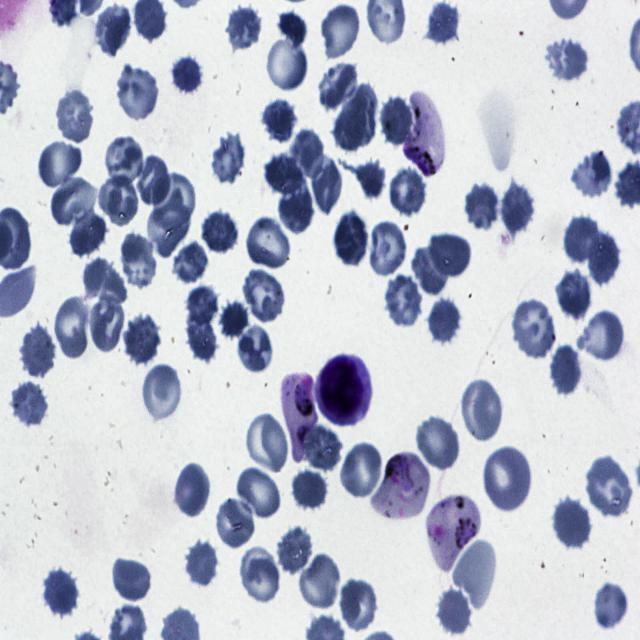difficult: (402, 90, 446, 178)
leukocyte: (316, 352, 369, 425)
red blood cell: (483, 443, 534, 514), (454, 536, 498, 612), (460, 377, 504, 445), (511, 296, 558, 359), (586, 454, 633, 517), (244, 410, 290, 474), (415, 413, 462, 472), (337, 86, 379, 150), (245, 215, 292, 272), (141, 361, 183, 424), (114, 64, 160, 121), (146, 202, 192, 259), (340, 441, 384, 500), (90, 286, 126, 358), (97, 172, 141, 230), (151, 172, 195, 230), (50, 173, 96, 228), (53, 294, 89, 364), (239, 548, 282, 606), (582, 309, 628, 363), (118, 230, 158, 292), (37, 139, 85, 190), (237, 466, 282, 520), (242, 268, 286, 323), (215, 495, 257, 551), (321, 1, 362, 58), (104, 134, 147, 188), (368, 220, 408, 278), (82, 256, 128, 306), (298, 556, 342, 608), (340, 576, 379, 634), (54, 89, 94, 145), (552, 496, 592, 552), (174, 462, 212, 520), (546, 34, 590, 84), (20, 322, 58, 379), (236, 322, 276, 376), (122, 312, 162, 366), (429, 230, 473, 279), (311, 154, 344, 218), (110, 555, 153, 604), (389, 167, 432, 216), (318, 61, 360, 111), (9, 379, 50, 430), (208, 132, 248, 184), (586, 230, 622, 286), (268, 39, 306, 92), (500, 181, 536, 236), (436, 584, 474, 636), (381, 279, 423, 326), (570, 149, 612, 196), (335, 212, 370, 268), (290, 128, 325, 184), (564, 215, 603, 265), (136, 154, 172, 208), (278, 522, 314, 576), (298, 427, 343, 470), (548, 345, 584, 398), (266, 152, 306, 199), (201, 208, 240, 256), (408, 247, 449, 292), (424, 293, 460, 344), (224, 3, 263, 50), (183, 540, 220, 589), (280, 185, 315, 236), (96, 6, 133, 54), (380, 96, 416, 145), (290, 468, 328, 514), (43, 568, 78, 616), (594, 582, 628, 631), (465, 182, 499, 230), (557, 269, 591, 317), (70, 209, 104, 257), (262, 99, 298, 144), (426, 0, 461, 46), (172, 52, 207, 95), (173, 242, 209, 283), (187, 284, 219, 327), (187, 319, 218, 362), (354, 160, 386, 200), (220, 302, 250, 341)
trophozoite: (426, 494, 480, 571), (371, 452, 432, 519), (280, 373, 320, 462)
